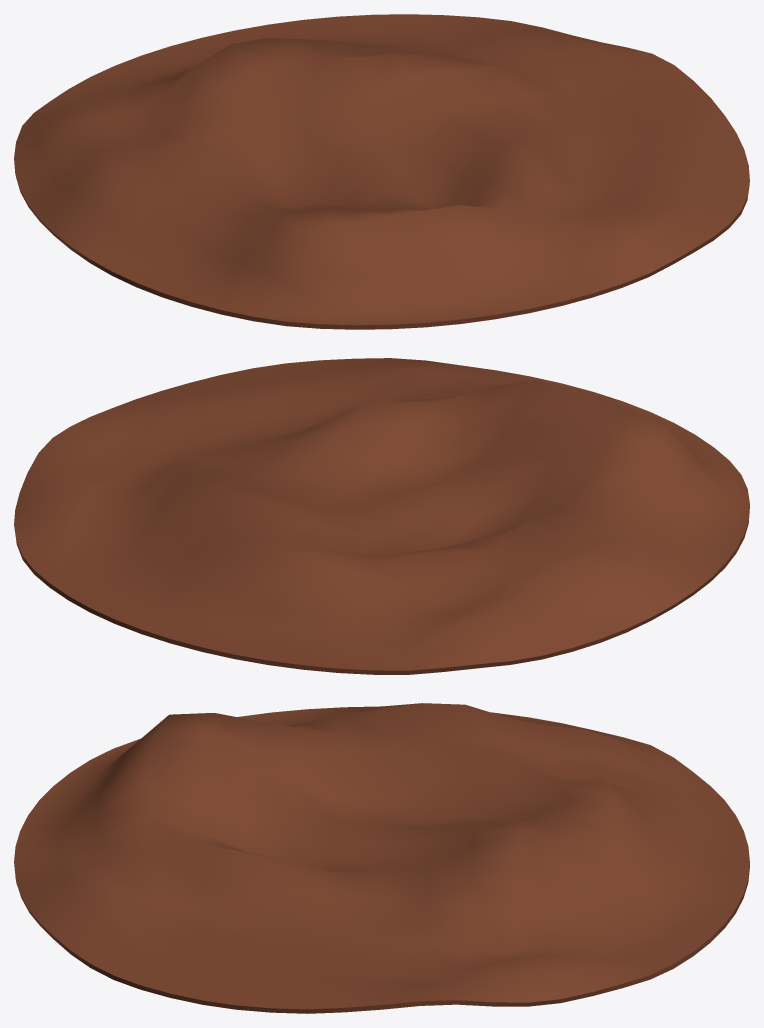
The model's file is tanah.fbx.
The picture shows the model from 3 angles, top to bottom: view 1: azimuth 30°, elevation 25°; view 2: azimuth 150°, elevation 25°; view 3: azimuth 270°, elevation 25°; orthographic projection. The views are drawn at different scales.
Parts seen in each view (by area): view 1: Plane; view 2: Plane; view 3: Plane.
Boxes of the visible parts, left/top/right/bottom form: Plane: left=14, top=14, right=749, bottom=329; Plane: left=14, top=358, right=749, bottom=674; Plane: left=14, top=703, right=749, bottom=1013.
Bounding box in the file's own units: 111 × 11.17 × 111.
